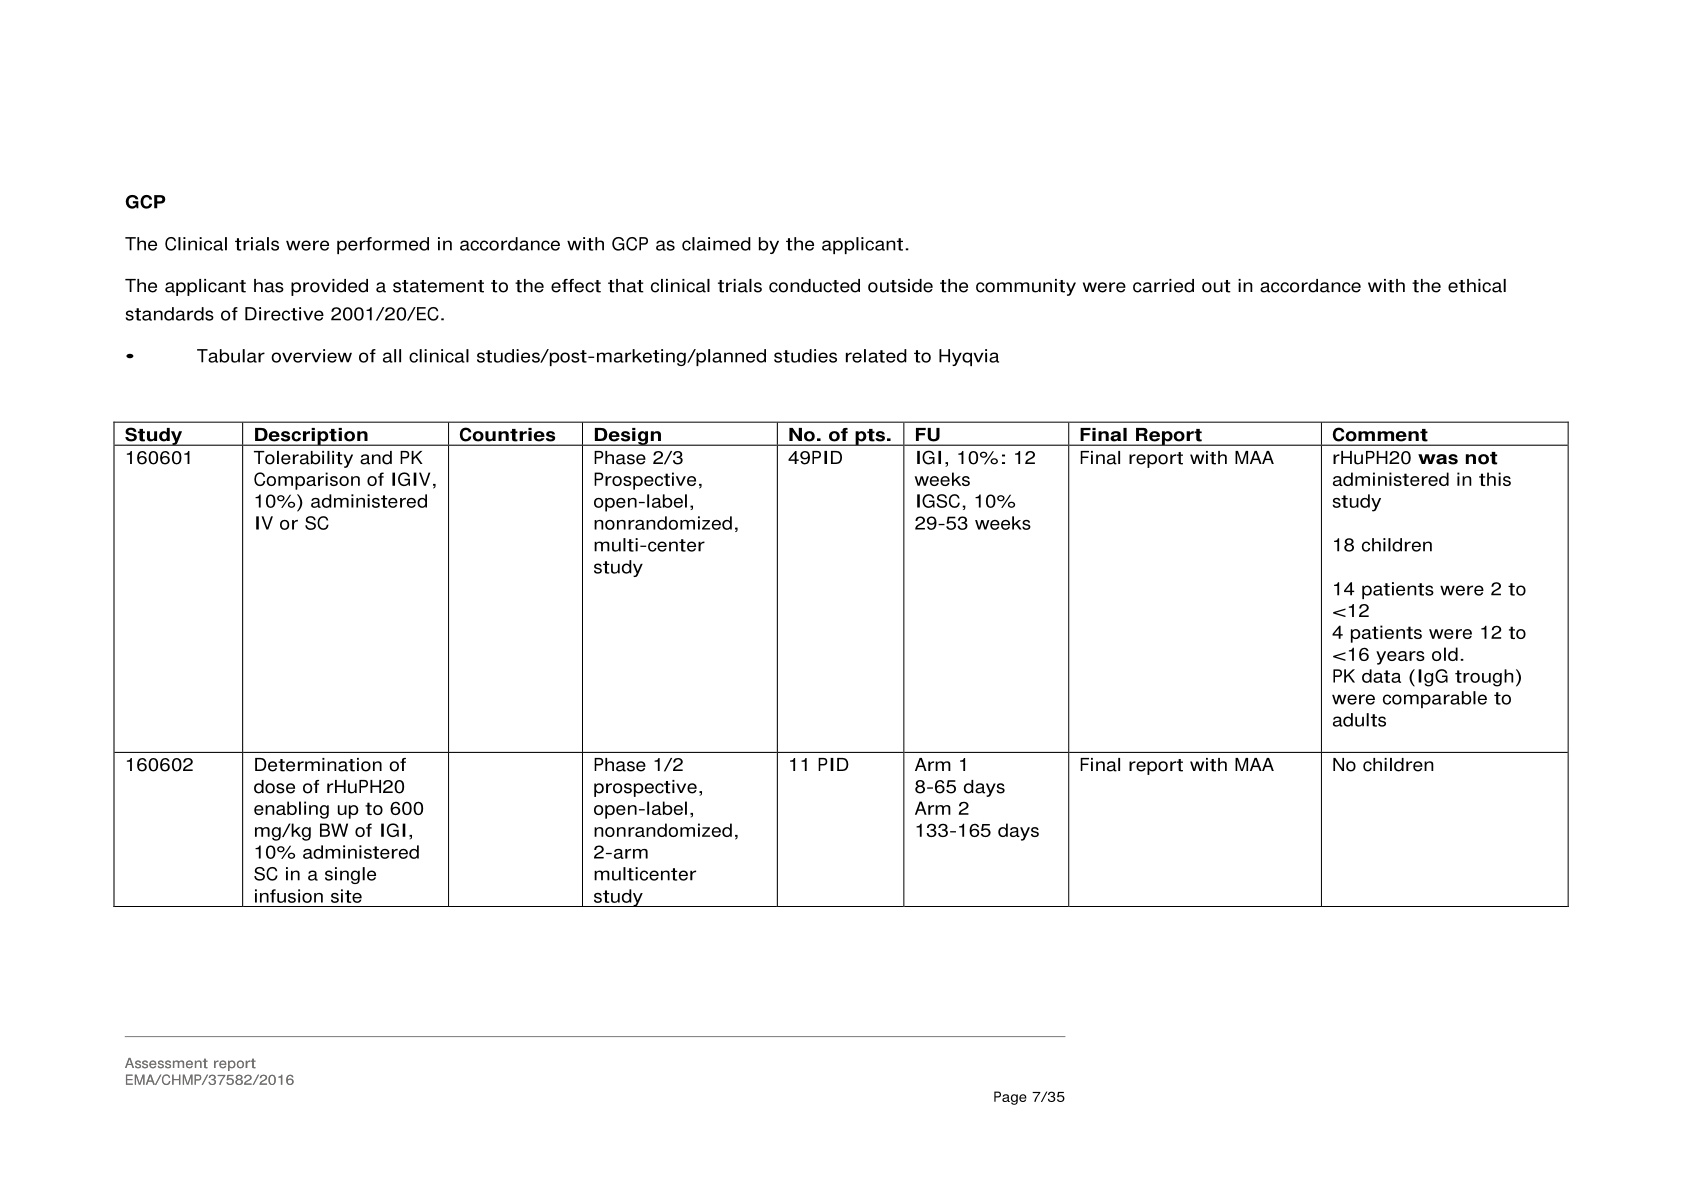full_lined: (113, 420, 1570, 909)
